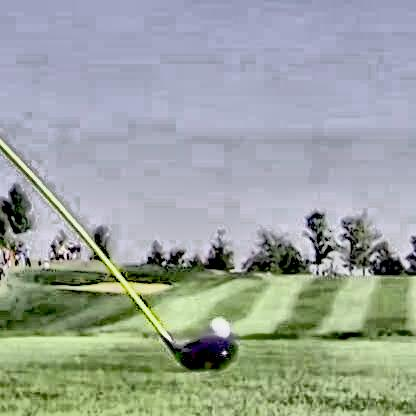golfball: (206, 315, 227, 339)
